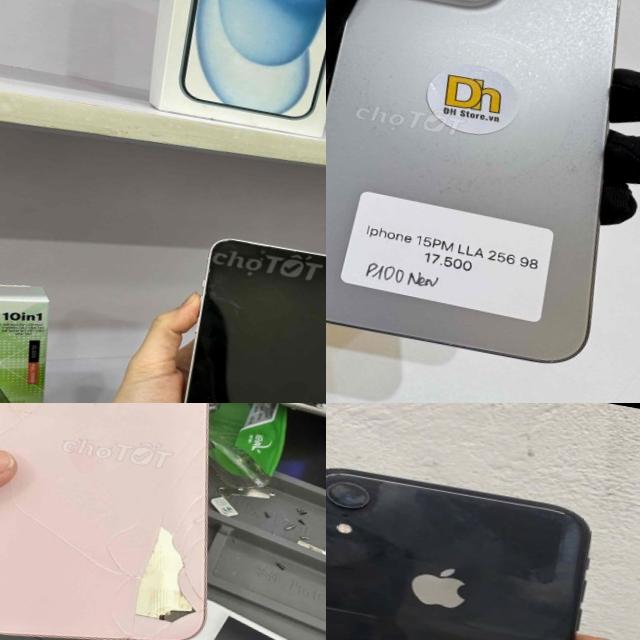gen_12_13: (164, 229, 326, 403)
gen_15: (326, 0, 640, 395)
gen_x_xs: (326, 457, 608, 640), (0, 403, 209, 640)
